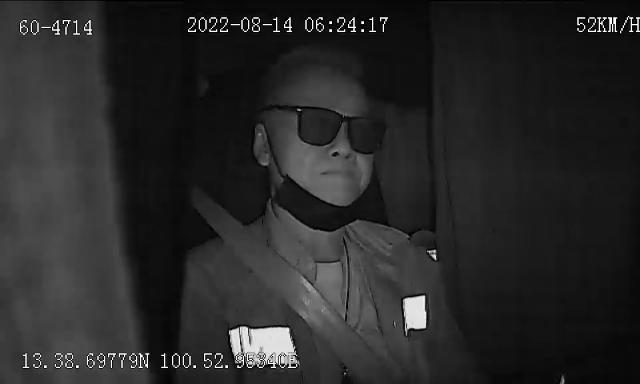Seatbelt: (193, 194, 389, 384)
